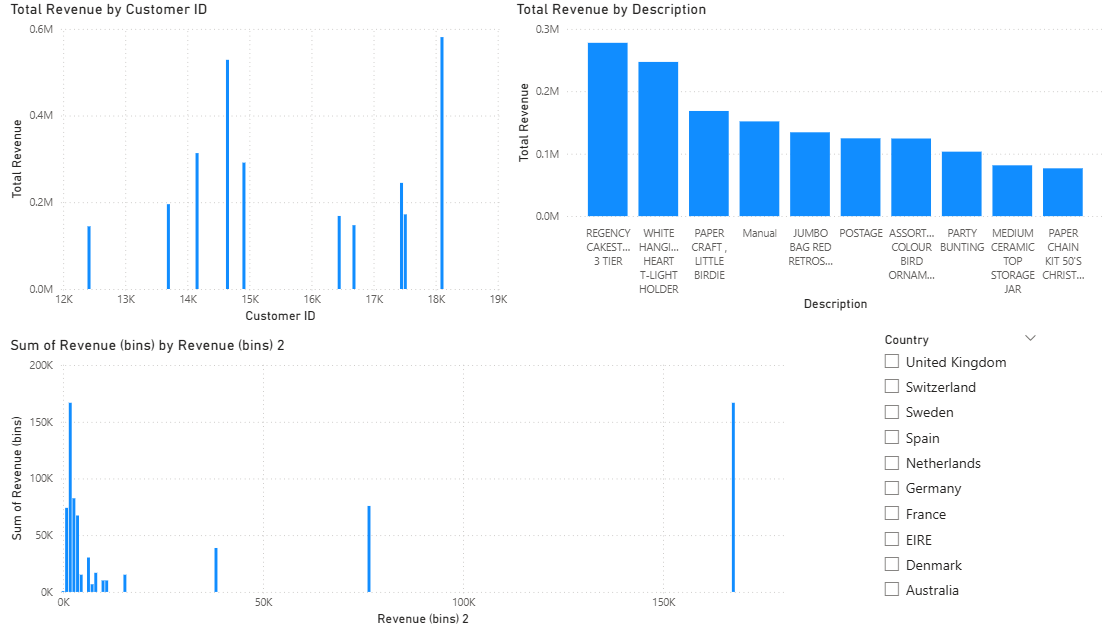

What the dashboard file says about the page in this screenshot:
{"tool":"powerbi","page":{"name":"Customer Insights","canvas":[1280,720],"ordinal":1},"visuals":[{"type":"clusteredColumnChart","fields":{"Category":["cleaned_retail.Customer ID"],"Y":["Sum(cleaned_retail.Revenue)"]},"box":[10,0,578.6,374.3],"z":0},{"type":"columnChart","fields":{"Y":["Sum(cleaned_retail.Revenue)"],"Category":["cleaned_retail.Description"]},"box":[588.6,0,681.4,360],"z":1000},{"type":"columnChart","fields":{"Category":["cleaned_retail.Revenue (bins) 2"],"Y":["Sum(cleaned_retail.Revenue (bins))"]},"box":[9.6,384.2,908.4,336.2],"z":1001},{"type":"slicer","fields":{"Values":["cleaned_retail.Country"]},"box":[1001.4,374.3,198.6,335.7],"z":1002}]}

Visuals, with their boxes in screenshot pixels (x1, y1, x2, y2), scaled from the page's 1280x720 canvas onto the 1112x627 screenshot:
clusteredColumnChart - cleaned_retail.Customer ID x Sum(cleaned_retail.Revenue): {"left": 9, "top": 0, "right": 511, "bottom": 326}
columnChart - Sum(cleaned_retail.Revenue) x cleaned_retail.Description: {"left": 511, "top": 0, "right": 1103, "bottom": 314}
columnChart - cleaned_retail.Revenue (bins) 2 x Sum(cleaned_retail.Revenue (bins)): {"left": 8, "top": 335, "right": 798, "bottom": 626}
slicer - cleaned_retail.Country: {"left": 870, "top": 326, "right": 1042, "bottom": 618}
